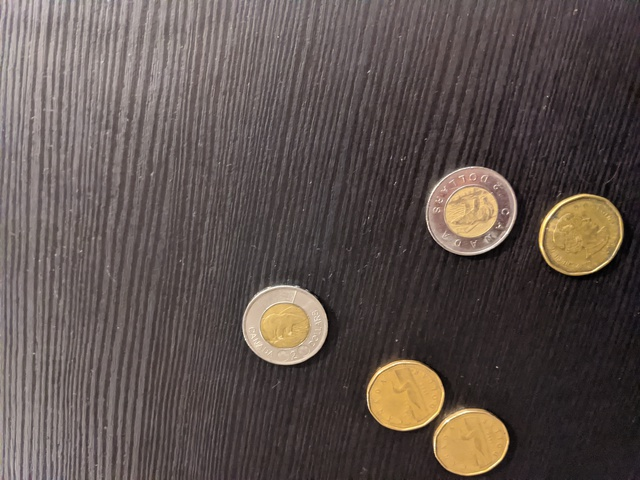loonie: (535, 184, 624, 280), (431, 391, 518, 476), (366, 354, 439, 426)
twonie: (415, 166, 525, 263), (241, 285, 331, 365)
